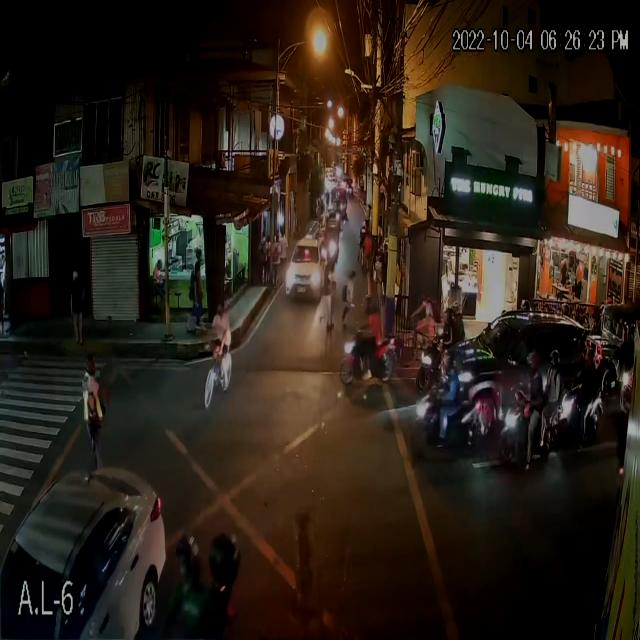Full-Faced: (176, 534, 195, 578), (439, 353, 456, 380), (360, 291, 375, 321), (443, 302, 456, 330), (453, 296, 467, 322), (578, 348, 592, 372)
Half-Faced: (526, 354, 542, 382), (545, 346, 561, 374)
